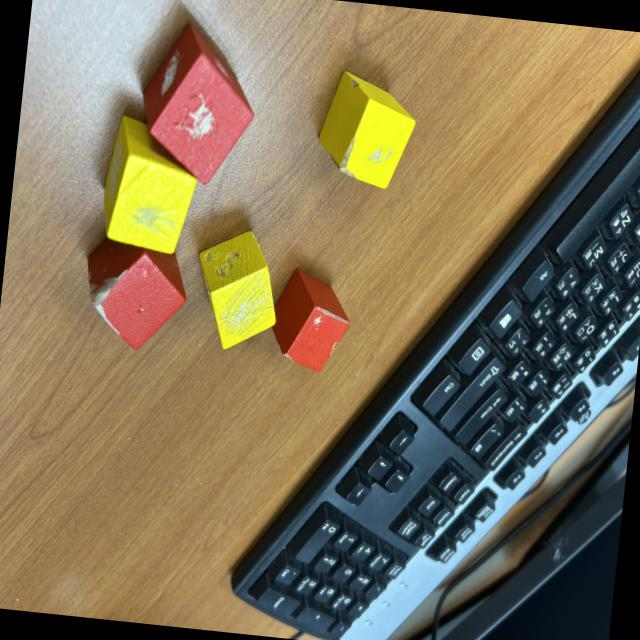broken: (134, 19, 263, 188), (78, 214, 194, 354), (96, 112, 202, 259), (312, 68, 420, 193), (188, 224, 286, 356), (266, 262, 356, 374)
